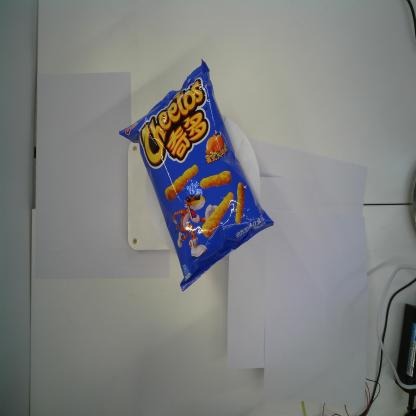Puffed Food: (116, 57, 274, 293)
